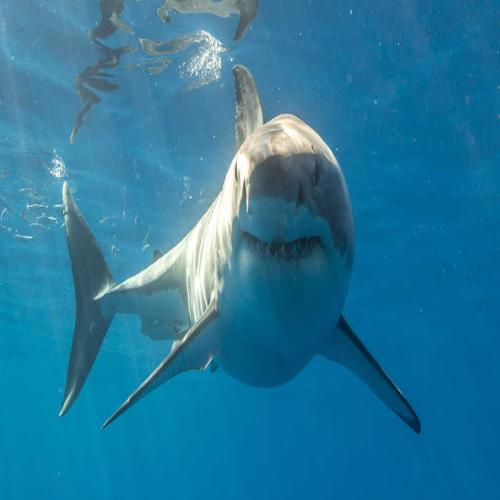shark-endangered: (82, 81, 364, 417)
